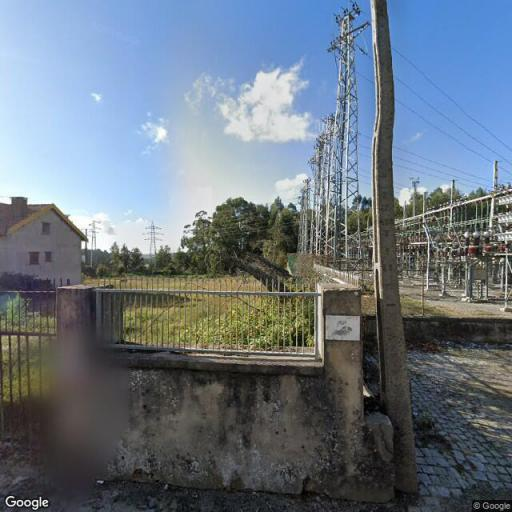ss_1: (324, 8, 370, 273)
ss_3: (143, 218, 163, 264)
ss_4: (88, 219, 102, 250)
